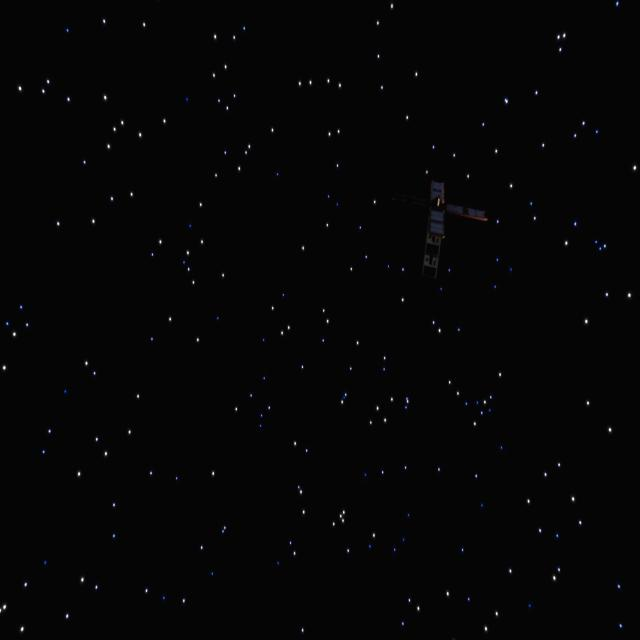medium_debris: (409, 174, 491, 274)
